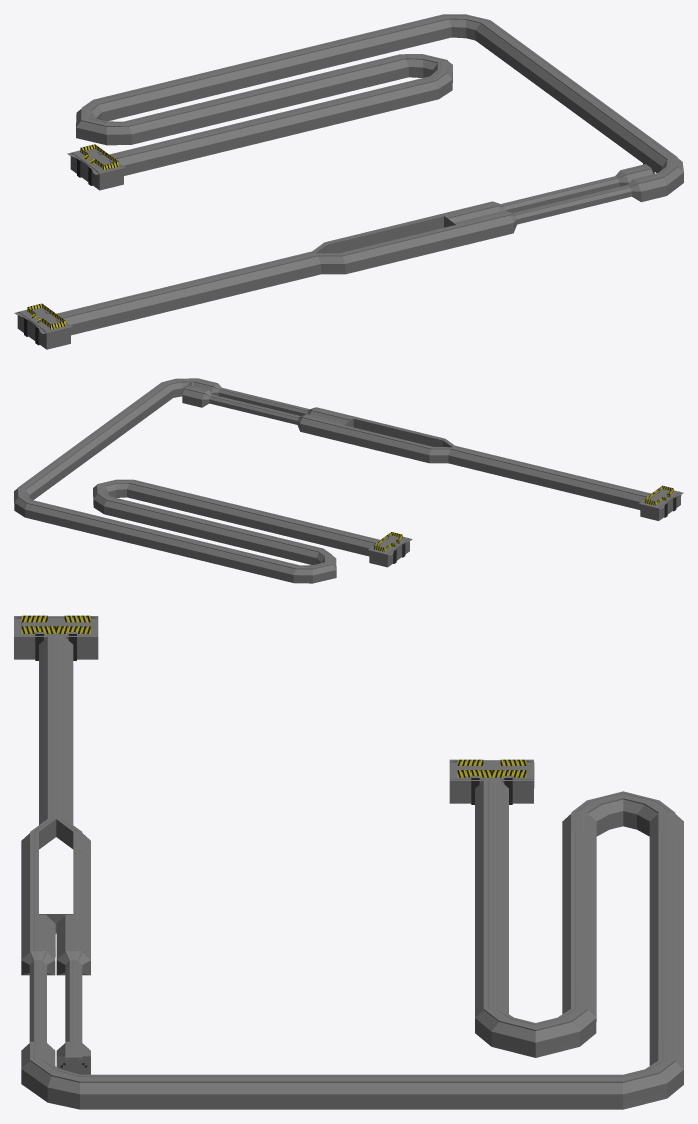
The model's file is tunnel models FIXED AGAIN HOPEFULLY.fbx.
3 renders of one model, top to bottom at view 1: azimuth 30°, elevation 25°; view 2: azimuth 150°, elevation 25°; view 3: azimuth 270°, elevation 25°, orthographic. The views are drawn at different scales.
Visible parts, largest first — view 1: Cube.046, Cube.062, Cube.048, Cube.002, Cube.075, Cube.020, Cube.044, Cube.034, Cube.021, Cube.019, Cube.049, Cube.018 (+46 smaller); view 2: Cube.046, Cube.062, Cube.048, Cube.002, Cube.075, Cube.021, Cube.019, Cube.034, Cube.020, Cube.044, Cube.049, Cube.017 (+44 smaller); view 3: Cube.062, Cube.046, Cube.049, Cube.075, Cube.002, Cube.034, Cube.048, Cube.044, Cube.019, Cube.021, Cube.022, Cube.030 (+13 smaller).
Boxes of the visible parts, x1,y1,x2,y2 form: Cube.046: (76, 93, 157, 145); Cube.062: (374, 54, 452, 105); Cube.048: (286, 238, 361, 280); Cube.002: (14, 303, 72, 349); Cube.075: (67, 144, 125, 190); Cube.020: (570, 173, 666, 210); Cube.044: (480, 199, 574, 239); Cube.034: (417, 14, 489, 43); Cube.021: (558, 159, 654, 200); Cube.019: (467, 190, 562, 217); Cube.049: (647, 146, 683, 195); Cube.018: (449, 216, 487, 245); Cube.046: (273, 543, 336, 583); Cube.062: (93, 479, 153, 518); Cube.048: (417, 435, 474, 467); Cube.002: (639, 485, 683, 520); Cube.075: (368, 532, 412, 567); Cube.021: (182, 382, 256, 414); Cube.019: (253, 405, 325, 436); Cube.034: (14, 487, 51, 522); Cube.020: (193, 378, 265, 406); Cube.044: (263, 398, 335, 419); Cube.049: (150, 378, 198, 405); Cube.017: (319, 419, 349, 441); Cube.062: (475, 990, 596, 1057); Cube.046: (562, 791, 683, 839); Cube.049: (21, 1059, 124, 1109); Cube.075: (449, 759, 534, 804); Cube.002: (14, 615, 98, 660); Cube.034: (623, 1042, 683, 1109); Cube.048: (21, 800, 90, 851); Cube.044: (21, 933, 55, 1005); Cube.019: (56, 933, 90, 1005); Cube.021: (56, 1001, 90, 1074); Cube.022: (123, 1074, 167, 1109); Cube.030: (453, 1074, 497, 1109).
Bounding box in the file's own units: 26259 × 852 × 15824.
